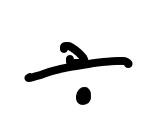div: (21, 41, 134, 105)
